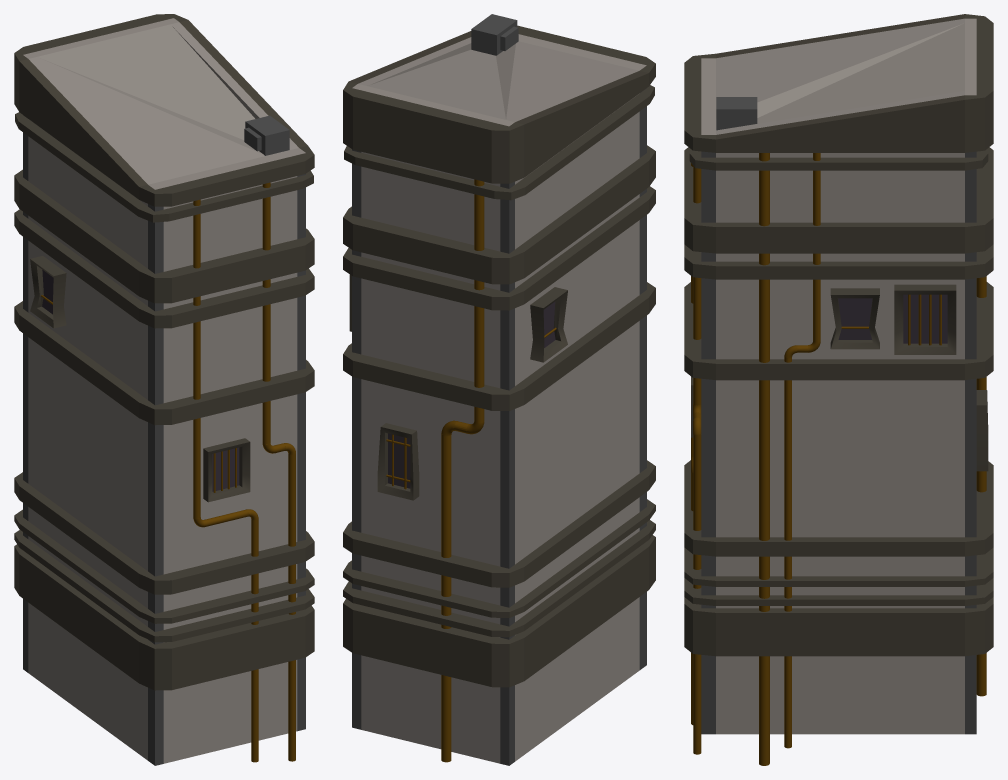
File: 48_building2 (1).fbx
3 views of the same model, side by side, from view 1: azimuth 30°, elevation 25°; view 2: azimuth 150°, elevation 25°; view 3: azimuth 270°, elevation 25° (orthographic). The views are drawn at different scales.
Visible parts, largest first — view 1: polySurface3, pCylinder54, pCube23, pCube22, pCylinder60, pCube9, pCylinder55, pCylinder59; view 2: polySurface3, pCylinder63, pCube21, pCube22, pCube9; view 3: polySurface3, pCylinder61, pCube19, pCylinder62, pCylinder54, pCube20, pCube9, pCylinder63, pCube21.
Part boxes in pixels (x1=…): polySurface3: x1=14, y1=14, x2=314, y2=765; pCylinder54: x1=262, y1=182, x2=295, y2=761; pCube23: x1=203, y1=438, x2=250, y2=502; pCube22: x1=30, y1=256, x2=66, y2=328; pCylinder60: x1=193, y1=199, x2=200, y2=519; pCube9: x1=244, y1=115, x2=289, y2=155; pCylinder55: x1=251, y1=519, x2=258, y2=762; pCylinder59: x1=193, y1=509, x2=258, y2=527; polySurface3: x1=343, y1=25, x2=655, y2=765; pCylinder63: x1=441, y1=179, x2=484, y2=762; pCube21: x1=377, y1=423, x2=419, y2=500; pCube22: x1=530, y1=287, x2=567, y2=362; pCube9: x1=471, y1=14, x2=518, y2=55; polySurface3: x1=684, y1=14, x2=993, y2=734; pCylinder61: x1=759, y1=153, x2=769, y2=765; pCube19: x1=894, y1=284, x2=956, y2=354; pCylinder62: x1=784, y1=153, x2=820, y2=748; pCylinder54: x1=693, y1=166, x2=701, y2=754; pCube20: x1=830, y1=288, x2=879, y2=349; pCube9: x1=716, y1=97, x2=757, y2=130; pCylinder63: x1=976, y1=276, x2=986, y2=696; pCube21: x1=976, y1=390, x2=988, y2=471.
Size of the model in its own units: 3.54 by 12.26 by 5.15.
